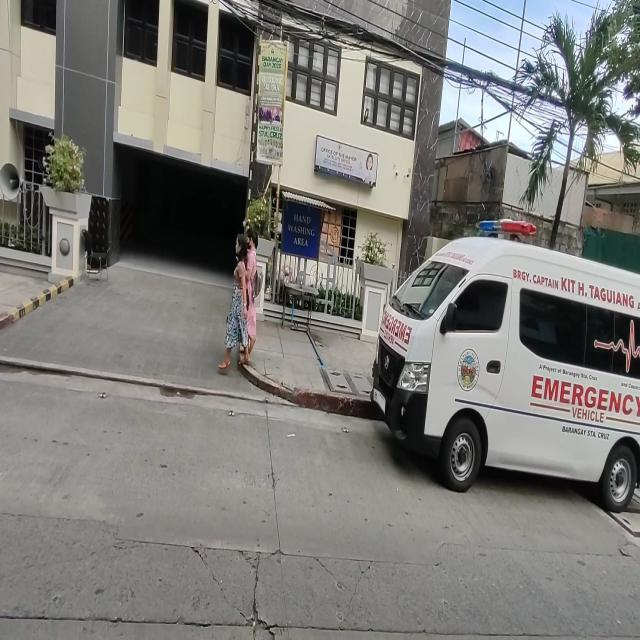emergency-vehicle: (361, 208, 640, 516), (528, 368, 640, 426), (376, 304, 414, 352)
